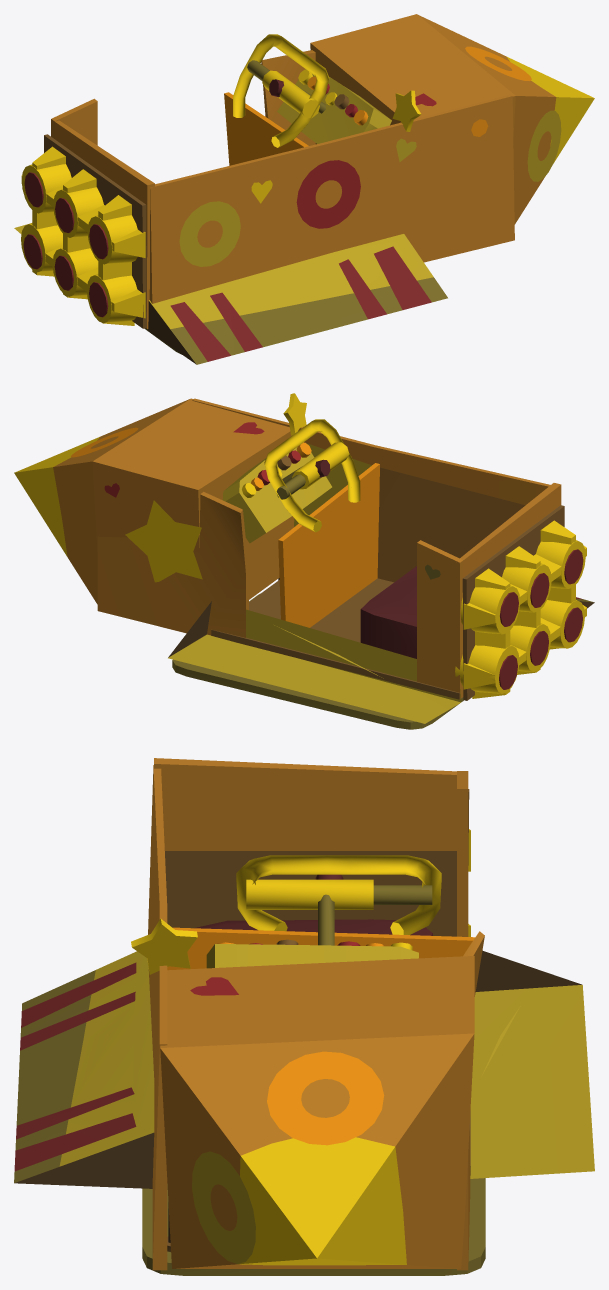
The model's file is rocket_1Meter.glb.
The picture shows the model from 3 angles, top to bottom: view 1: azimuth 30°, elevation 25°; view 2: azimuth 150°, elevation 25°; view 3: azimuth 270°, elevation 25°; orthographic projection. The views are drawn at different scales.
Parts seen in each view (by area): view 1: Box052-cardboard_main, Box050-cardboard_main, Box055-green_main, Cylinder045, Box055-green_dark, Box055-pillow, Box054-cardboard_main, Box058, Torus002, Box059, Line002, Torus001 (+20 smaller); view 2: Box050-cardboard_main, Box056-green_main, Box053, Box059, Box052-Material #222, Cylinder045, Object020, Box052-cardboard_main, Box051, Box060, Box058, Star002 (+21 smaller); view 3: Box050-cardboard_main, Box054-cardboard_main, Box056-green_main, Box050-jet, Box055-green_main, Box054-cardboard_dark, Box055-green_dark, Torus004, Box055-pillow, Box052-cardboard_main, Line002, Box057 (+12 smaller).
Part boxes in pixels (x1,y1,x2,y2): Box052-cardboard_main: (149,94,514,303); Box050-cardboard_main: (310,14,556,224); Box055-green_main: (149,234,433,329); Cylinder045: (21,164,137,323); Box055-green_dark: (170,277,447,364); Box055-pillow: (170,246,431,361); Box054-cardboard_main: (54,120,154,328); Box058: (277,74,391,143); Torus002: (296,160,360,228); Box059: (224,92,308,165); Line002: (233,34,329,147); Torus001: (179,201,240,266); Box050-cardboard_main: (53,398,294,604); Box056-green_main: (168,609,461,723); Box053: (97,492,248,637); Box059: (278,463,379,627); Box052-Material #222: (377,467,525,582); Cylinder045: (455,540,585,693); Object020: (417,540,463,698); Box052-cardboard_main: (192,398,550,505); Box051: (211,578,459,699); Box060: (360,566,416,658); Box058: (222,447,331,543); Star002: (125,500,202,582); Box050-cardboard_main: (160,956,474,1268); Box054-cardboard_main: (154,758,456,850); Box056-green_main: (470,985,594,1178); Box050-jet: (237,1137,406,1265); Box055-green_main: (59,951,154,1166); Box054-cardboard_dark: (165,851,456,936); Box055-green_dark: (14,970,95,1182); Torus004: (267,1051,384,1145); Box055-pillow: (14,962,136,1171); Box052-cardboard_main: (148,765,167,1270); Line002: (236,855,441,934); Box057: (142,1178,485,1275).
Size of the model in its own units: 1.21 by 0.4866 by 0.7229.
